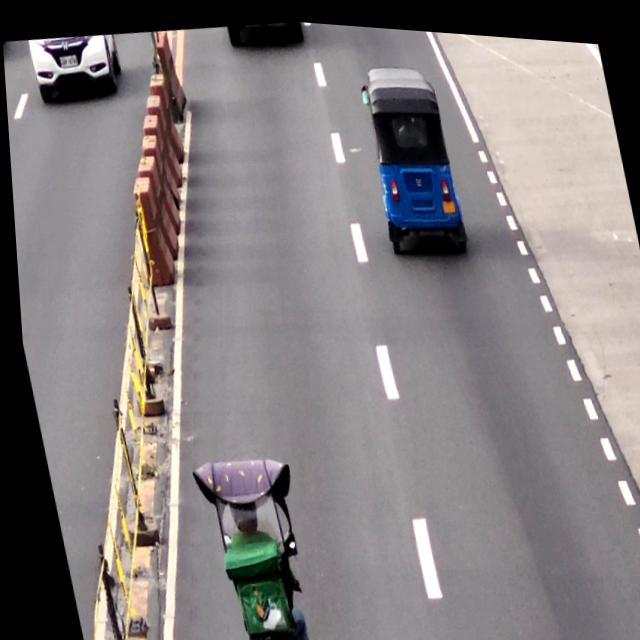Motorcycle: (185, 448, 312, 640)
